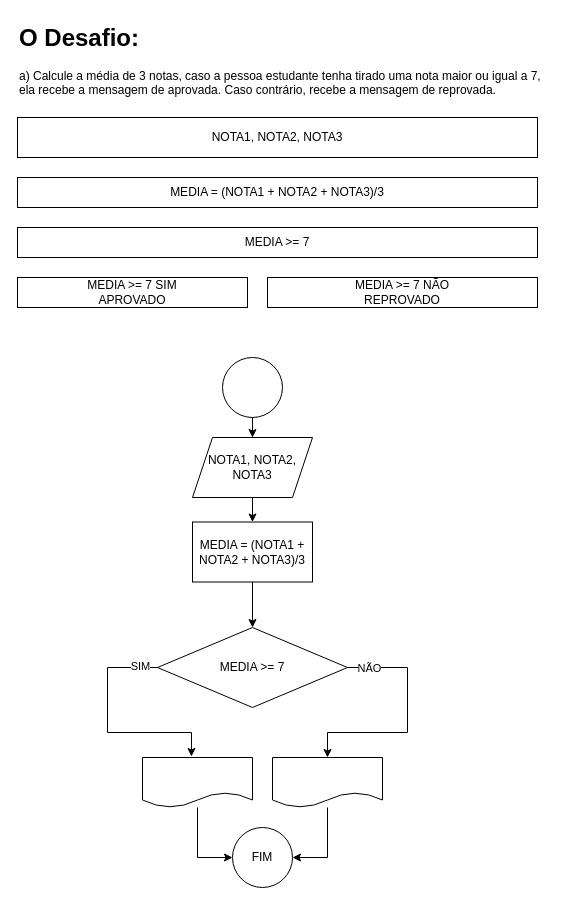
Some shapes in this 565 by 905 pixel diagram are drawn without their labels. Each missing label, with the centre of its shape:
"APROVADO" belongs at [197,782].
"INÍCIO" belongs at [252,387].
"REPROVADO" belongs at [327,782].
